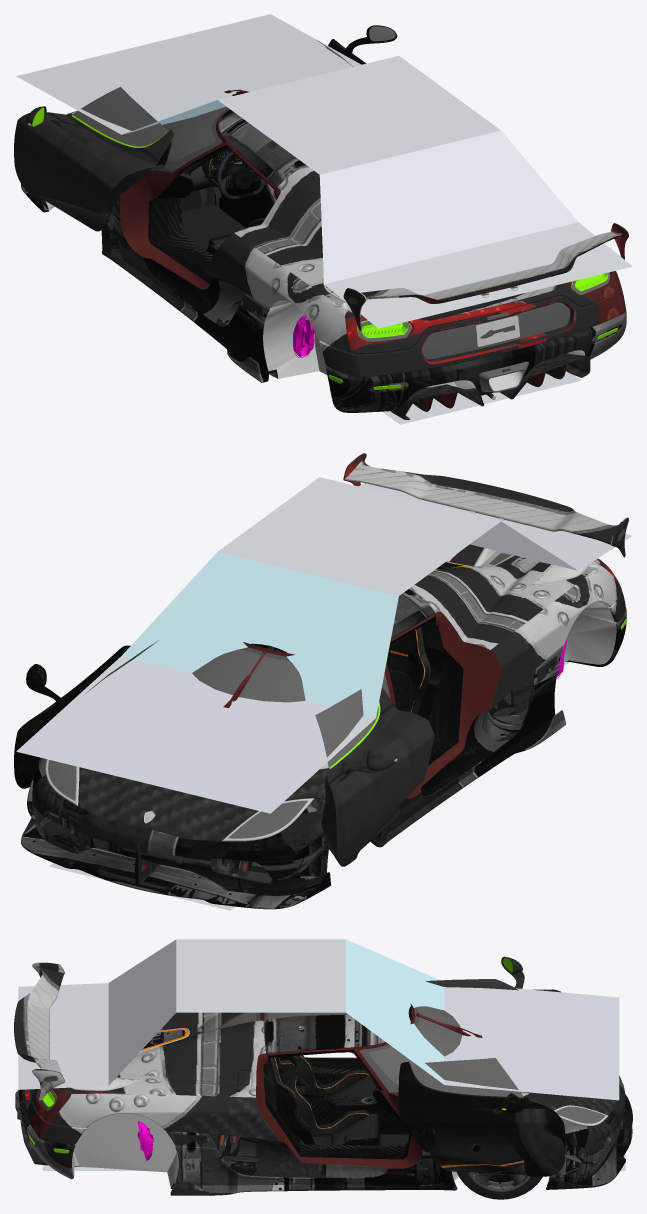
The picture shows the model from 3 angles, top to bottom: view 1: azimuth 30°, elevation 25°; view 2: azimuth 150°, elevation 25°; view 3: azimuth 270°, elevation 25°; orthographic projection. The views are drawn at different scales.
Visible parts, largest first — view 1: euros.dff.turismo_col.ColMesh, boot, chassis, d lf, interior, windscreen, d rf, hub_lb; view 2: euros.dff.turismo_col.ColMesh, chassis, boot, d lf, bonnet, interior, windscreen, d rf, gloss; view 3: euros.dff.turismo_col.ColMesh, chassis, boot, d rf, interior, windscreen, wheel, bonnet, d lf, gloss, hub_rb.
Boxes of the visible parts, bbox=[...] form: euros.dff.turismo_col.ColMesh: bbox=[16, 14, 632, 424]; boot: bbox=[205, 165, 628, 377]; chassis: bbox=[21, 89, 626, 419]; d lf: bbox=[14, 87, 174, 231]; interior: bbox=[148, 145, 276, 284]; windscreen: bbox=[162, 106, 228, 173]; d rf: bbox=[317, 25, 397, 66]; hub_lb: bbox=[293, 315, 314, 357]; euros.dff.turismo_col.ColMesh: bbox=[16, 477, 632, 910]; chassis: bbox=[21, 589, 626, 909]; boot: bbox=[343, 453, 628, 709]; d lf: bbox=[315, 687, 434, 866]; bonnet: bbox=[46, 759, 328, 841]; interior: bbox=[386, 616, 463, 765]; windscreen: bbox=[192, 647, 390, 702]; d rf: bbox=[14, 640, 158, 788]; gloss: bbox=[48, 760, 307, 838]; euros.dff.turismo_col.ColMesh: bbox=[18, 939, 625, 1170]; chassis: bbox=[15, 1003, 632, 1195]; boot: bbox=[14, 962, 279, 1144]; d rf: bbox=[398, 1058, 565, 1176]; interior: bbox=[263, 1050, 411, 1159]; windscreen: bbox=[216, 1006, 462, 1093]; wheel: bbox=[457, 1171, 542, 1199]; bonnet: bbox=[390, 1091, 616, 1125]; d lf: bbox=[426, 956, 560, 992]; gloss: bbox=[556, 1106, 605, 1123]; hub_rb: bbox=[137, 1121, 153, 1161].
Size of what is drawn, in the model's own units: 260 by 136 by 456.
